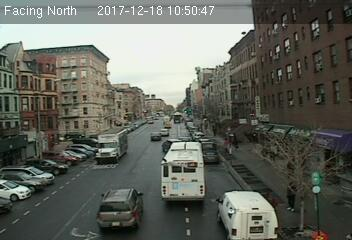bus: (159, 141, 207, 203)
car: (97, 186, 146, 228), (204, 149, 221, 163), (149, 132, 161, 141)
pedestrian: (287, 181, 297, 214)
truck: (216, 190, 276, 240), (93, 129, 131, 162)
